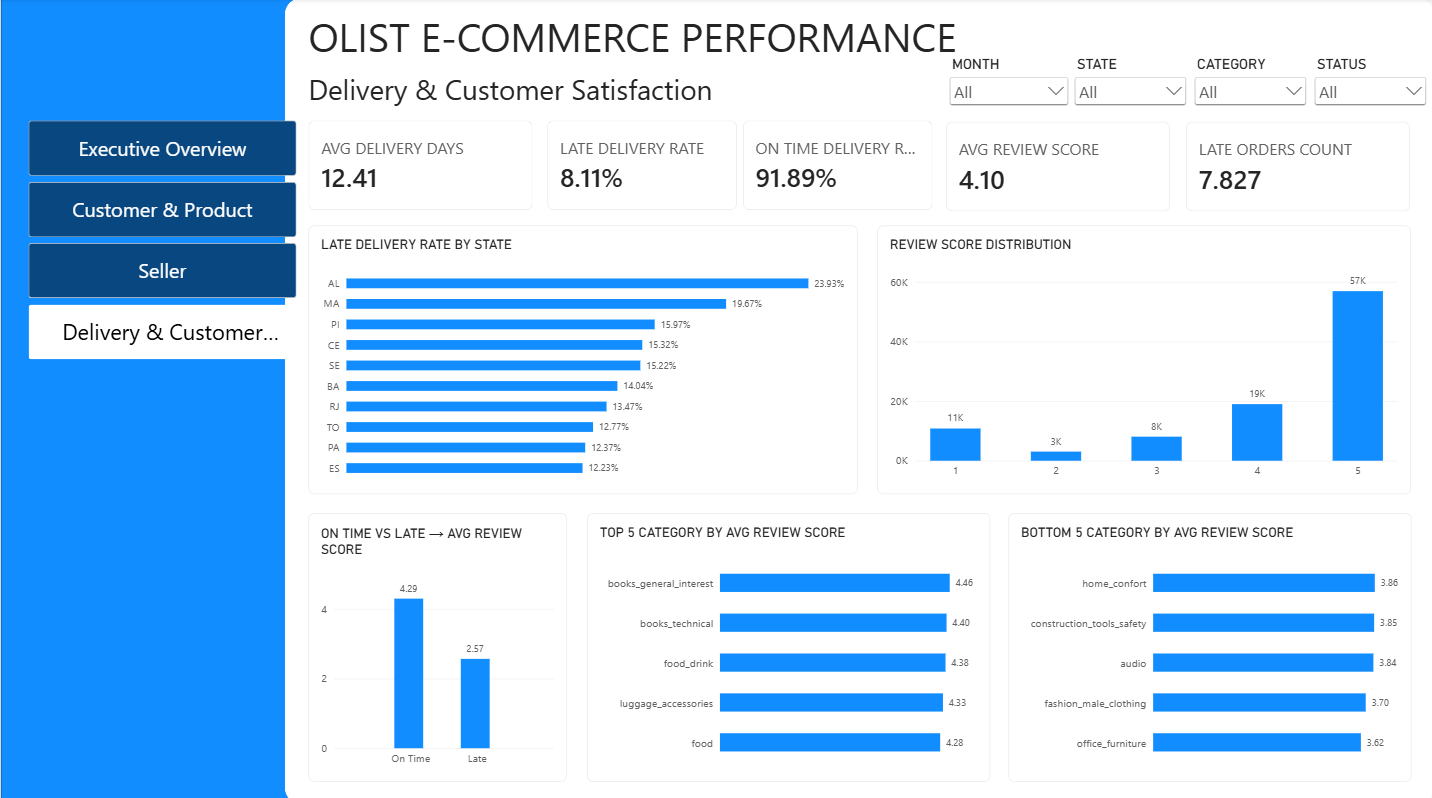

The dashboard page shown, as its layout file describes it:
{"tool":"powerbi","page":{"name":"Delivery & Customer Satisfaction","canvas":[1920,1080],"ordinal":3},"visuals":[{"type":"shape","box":[0,0,397.3,1080.6],"z":0},{"type":"shape","box":[380.9,0,1539.6,1080.1],"z":1000},{"type":"textbox","box":[411.7,14.4,913.9,82.3],"z":2000},{"type":"textbox","box":[411.7,96.7,913.9,53.5],"z":3000},{"type":"barChart","title":"LATE DELIVERY RATE BY STATE","fields":{"Category":["vw_dim_customers.customer_state"],"Y":["Key_Measure.Late Delivery Rate"]},"box":[411.6,305.2,736,360],"z":4000},{"type":"clusteredColumnChart","title":"ON TIME VS LATE → AVG REVIEW SCORE","fields":{"Category":["vw_fact_sales.delivery_status"],"Y":["Key_Measure.Avg Review Score"]},"box":[412,690,346,360],"z":5000},{"type":"columnChart","title":"REVIEW SCORE DISTRIBUTION","fields":{"Category":["vw_fact_sales.review_score"],"Y":["Key_Measure.Total Reviewed Orders"]},"box":[1174.8,305.3,715,360],"z":6000},{"type":"pageNavigator","box":[36.7,164.3,360,321.5],"z":7000},{"type":"cardVisual","fields":{"Data":["Key_Measure.Late Delivery Rate","Key_Measure.On Time Delivery Rate"]},"box":[732,164,516,120],"z":8000},{"type":"cardVisual","fields":{"Data":["Key_Measure.Avg Delivery Days"]},"box":[412,164,300,120],"z":9000},{"type":"cardVisual","fields":{"Data":["Key_Measure.Avg Review Score"]},"box":[1265.6,165.6,300,120],"z":10000},{"type":"cardVisual","fields":{"Data":["Key_Measure.Format Late Orders Count"]},"box":[1587.8,165.6,300,120],"z":11000},{"type":"slicer","fields":{"Values":["dim_date.Month Year"]},"box":[1265.5,76.4,168.9,89.2],"z":12000},{"type":"slicer","fields":{"Values":["vw_dim_customers.customer_state"]},"box":[1434.5,76.4,159.4,89.2],"z":13000},{"type":"slicer","fields":{"Values":["vw_dim_products.product_category_name"]},"box":[1594.5,76.4,159.4,89.2],"z":14000},{"type":"slicer","fields":{"Values":["vw_fact_sales.delivery_status"]},"box":[1754.5,76.4,159.4,89.2],"z":15000},{"type":"clusteredBarChart","title":"TOP 5 CATEGORY BY AVG REVIEW SCORE","fields":{"Category":["vw_dim_products.product_category_name"],"Y":["Key_Measure.Avg Review Score (Min 100)"]},"box":[786,690,540,360],"z":16000},{"type":"clusteredBarChart","title":"BOTTOM 5 CATEGORY BY AVG REVIEW SCORE","fields":{"Category":["vw_dim_products.product_category_name"],"Y":["Key_Measure.Avg Review Score (Min 100)"]},"box":[1350,690,540,360],"z":17000}]}

Visuals, with their boxes on the page's 1920x1080 design canvas (x1, y1, x2, y2). These are canvas units, not pixel positions in the 1432x798 screenshot, which may show the page scaled, cropped or inside an application window:
shape: (left=0, top=0, right=397, bottom=1081)
shape: (left=381, top=0, right=1920, bottom=1080)
textbox: (left=412, top=14, right=1326, bottom=97)
textbox: (left=412, top=97, right=1326, bottom=150)
"LATE DELIVERY RATE BY STATE" barChart: (left=412, top=305, right=1148, bottom=665)
"ON TIME VS LATE → AVG REVIEW SCORE" clusteredColumnChart: (left=412, top=690, right=758, bottom=1050)
"REVIEW SCORE DISTRIBUTION" columnChart: (left=1175, top=305, right=1890, bottom=665)
pageNavigator: (left=37, top=164, right=397, bottom=486)
cardVisual - Key_Measure.Late Delivery Rate x Key_Measure.On Time Delivery Rate: (left=732, top=164, right=1248, bottom=284)
cardVisual - Key_Measure.Avg Delivery Days: (left=412, top=164, right=712, bottom=284)
cardVisual - Key_Measure.Avg Review Score: (left=1266, top=166, right=1566, bottom=286)
cardVisual - Key_Measure.Format Late Orders Count: (left=1588, top=166, right=1888, bottom=286)
slicer - dim_date.Month Year: (left=1266, top=76, right=1434, bottom=166)
slicer - vw_dim_customers.customer_state: (left=1434, top=76, right=1594, bottom=166)
slicer - vw_dim_products.product_category_name: (left=1594, top=76, right=1754, bottom=166)
slicer - vw_fact_sales.delivery_status: (left=1754, top=76, right=1914, bottom=166)
"TOP 5 CATEGORY BY AVG REVIEW SCORE" clusteredBarChart: (left=786, top=690, right=1326, bottom=1050)
"BOTTOM 5 CATEGORY BY AVG REVIEW SCORE" clusteredBarChart: (left=1350, top=690, right=1890, bottom=1050)
